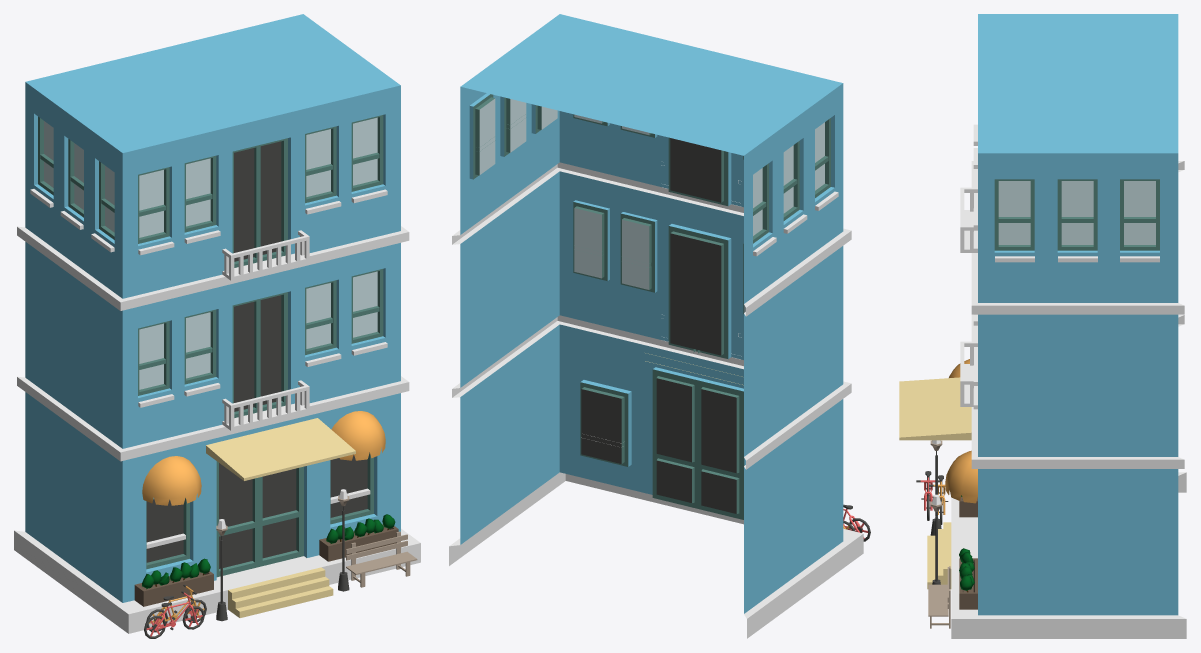
File: building_2.fbx
The picture shows the model from 3 angles, left to right: view 1: azimuth 30°, elevation 25°; view 2: azimuth 150°, elevation 25°; view 3: azimuth 270°, elevation 25°; orthographic projection. The views are drawn at different scales.
Parts seen in each view (by area): view 1: building_2; view 2: building_2; view 3: building_2.
Boxes of the visible parts, x1,y1,x2,y2 form: building_2: [14, 14, 420, 638]; building_2: [449, 14, 870, 638]; building_2: [899, 14, 1186, 638].
Bounding box in the file's own units: 630 × 969 × 523.
Materials: 1 (1 with a texture image).
